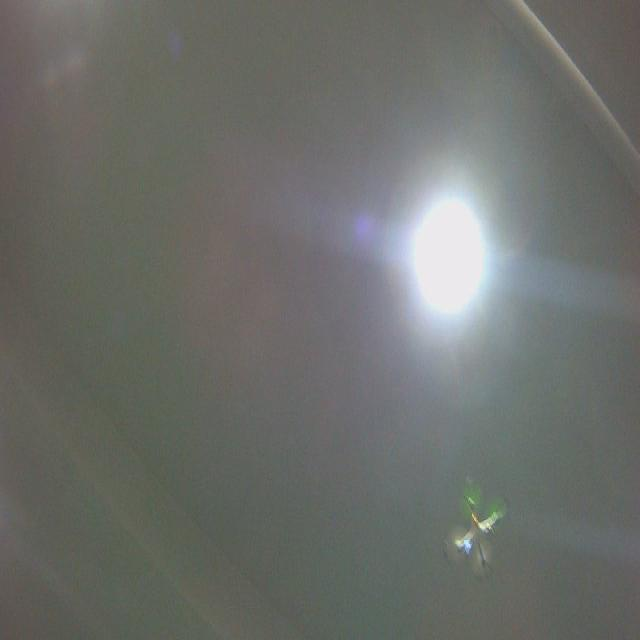drone: (441, 475, 511, 584)
